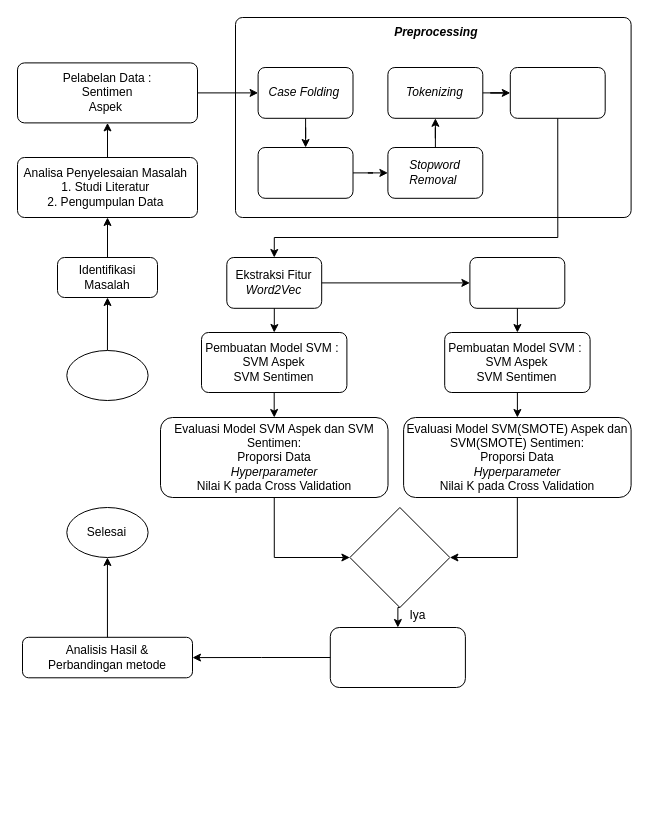
This 649x833 diagram has some shape labels left out. The shapes that lost their labels are listed below. From the top down, each one's centre as x and y in pixels, then its label:
At (x=557, y=92): "Stemming".
At (x=305, y=172): "Filtering".
At (x=517, y=282): "SMOTE".
At (x=107, y=375): "Mulai".
At (x=399, y=557): "If Kinerja Baik".
At (x=397, y=657): "Klasifikasi Aspek dan Sentimen".
